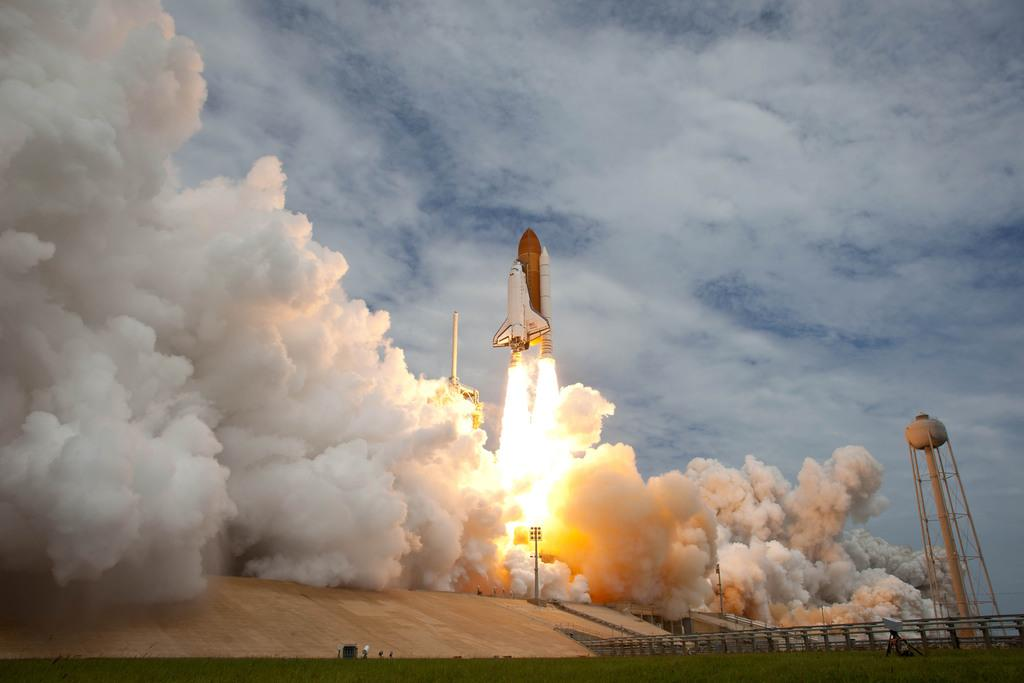Missile: (484, 226, 557, 363)
